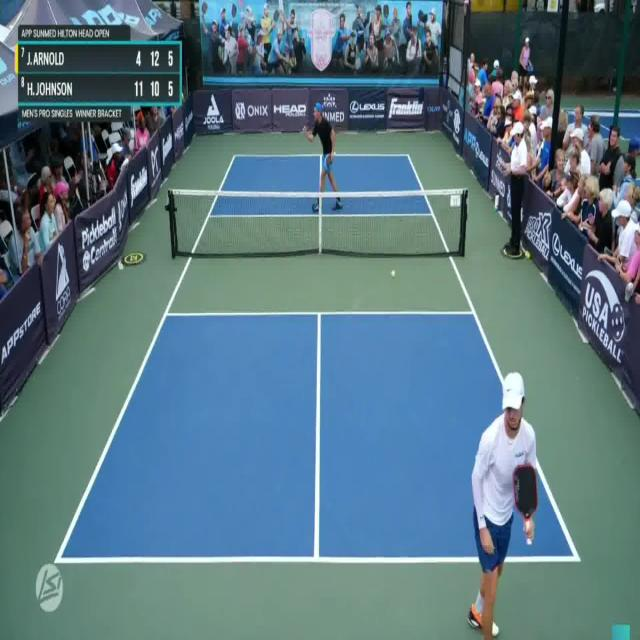ball: (391, 267, 395, 280)
